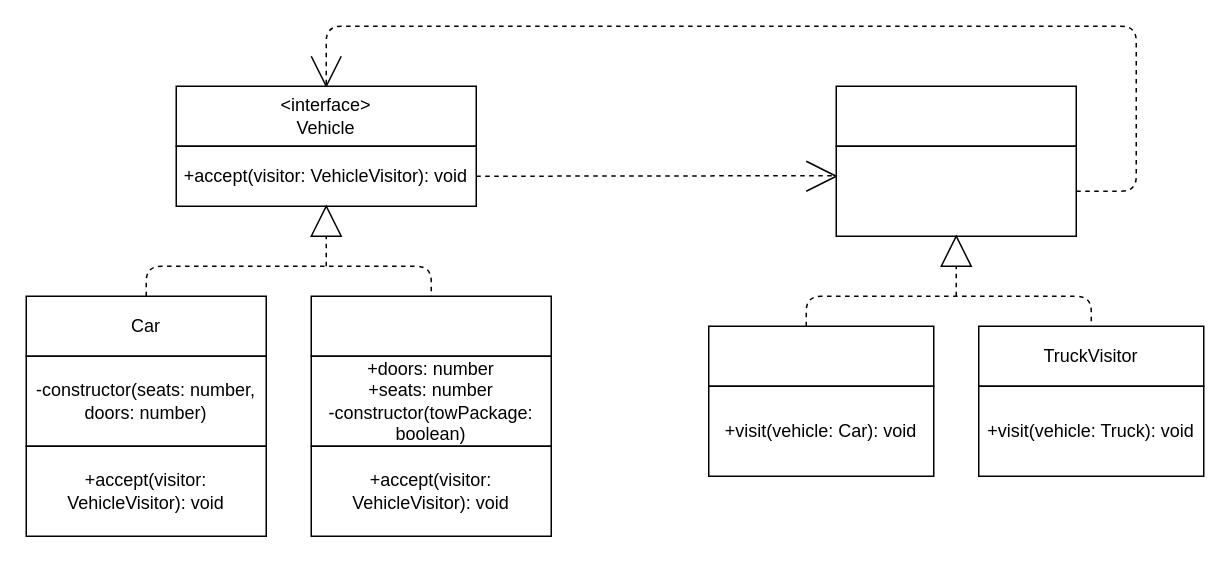
This 1230x563 diagram has some shape labels left out. Each missing label, with the centre of its shape:
"+visit(vehicle: Vehicle): void" goes at point (955, 190).
"<interface> VehicleVisitor" goes at point (955, 115).
"CarVisitor" goes at point (820, 355).
"Truck" goes at point (430, 325).
